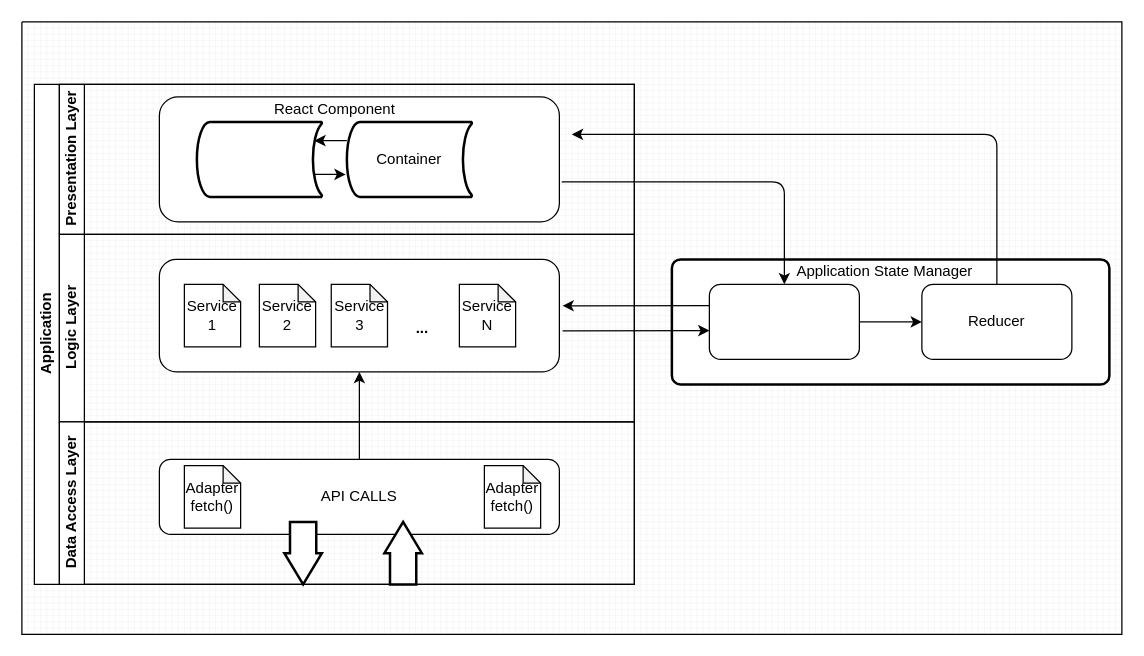
Image size: 1144x656. Some labels were removed from this diagram. The centre of each missing label's shape, as x and y in pixels:
Action: (x=783, y=321)
Presentational JSX: (x=258, y=159)
